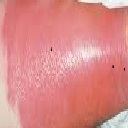Cellulitis: (22, 15, 120, 100)
